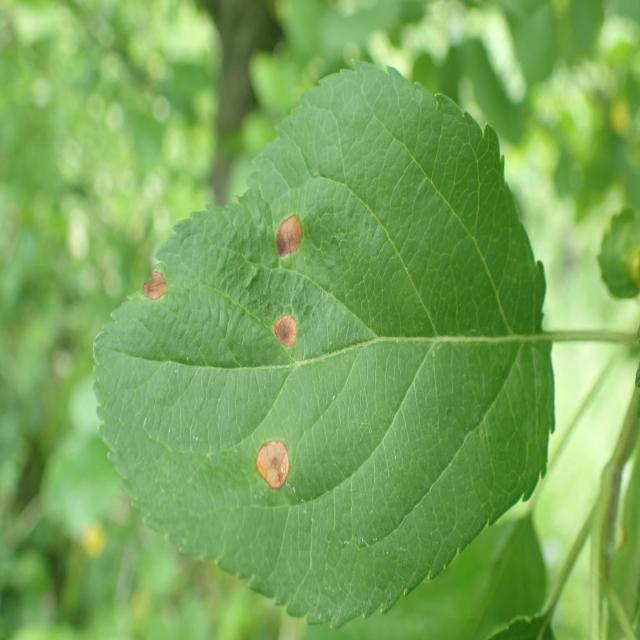frog-eye-leaf-spot: (92, 57, 555, 630)
